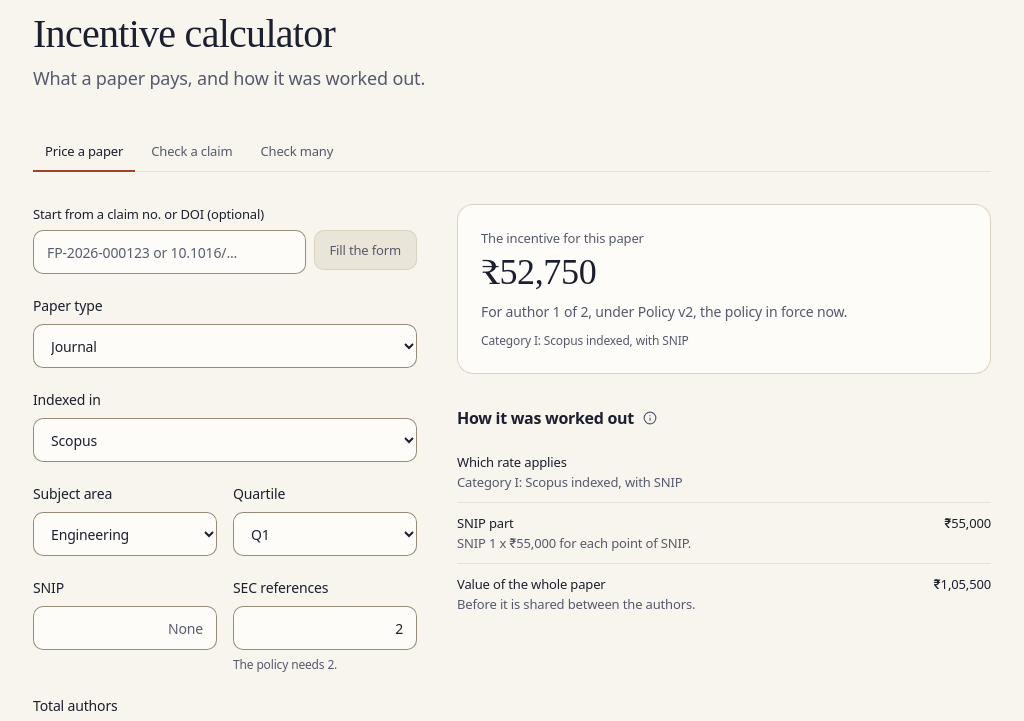
Test: the incentive calculator › price a paper › never blocks on a prefill that fails
Check: the text "₹52,750" is shown, box [481,252,596,292]
Type "10.1000/x" into the field labelled "Start from a claim no. or DOI (optional)". click: (169, 252)
box: [33,230,306,274]
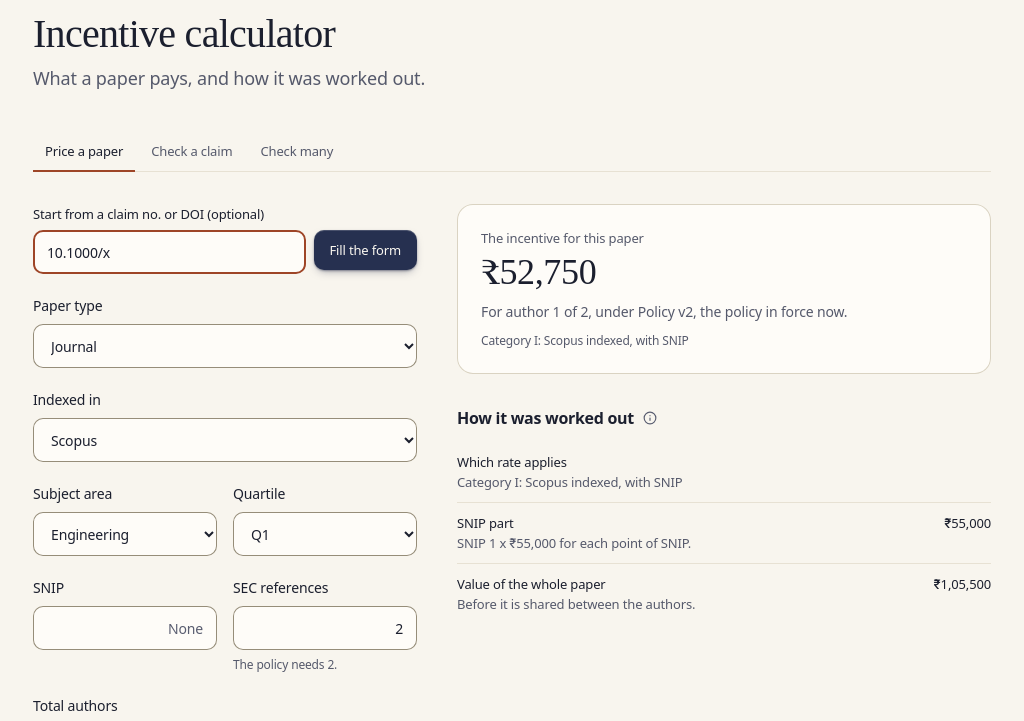
Click the button "Fill the form". click: (365, 250)
box: [314,230,417,270]
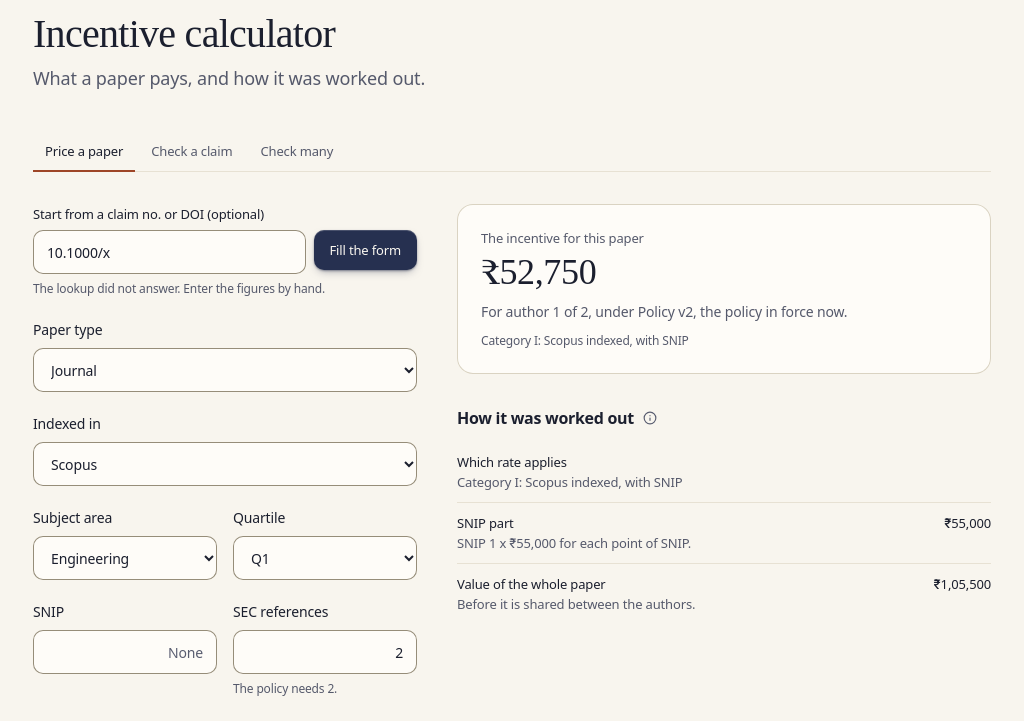
Check: the text with test id "calc-amount" reads "₹52,750", box [481,252,596,292]
Check: the text "The lookup did not answer. Enter the figures by hand." is shown, box [33,280,325,297]
